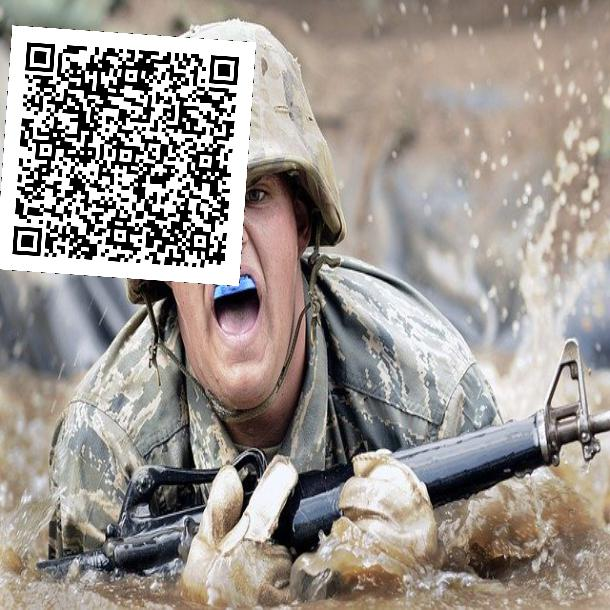qr_code: (0, 27, 255, 282)
